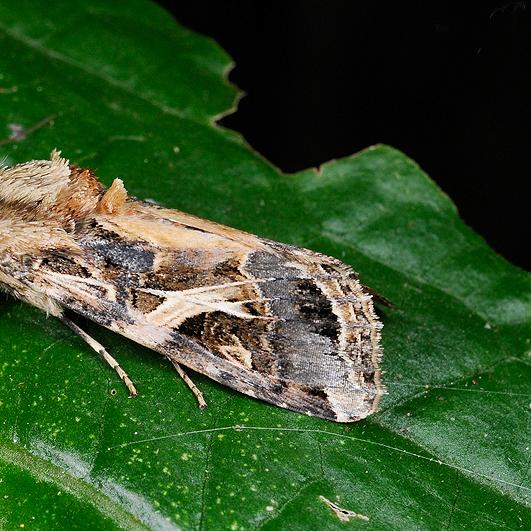Spodoptera litura: (1, 113, 395, 423)
